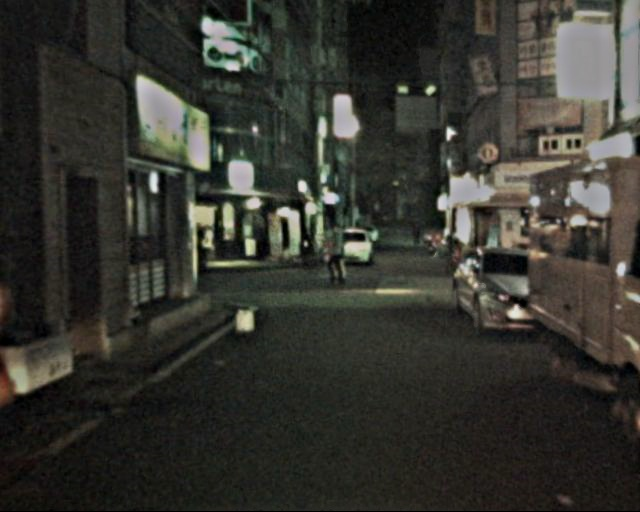person: (321, 222, 350, 291)
